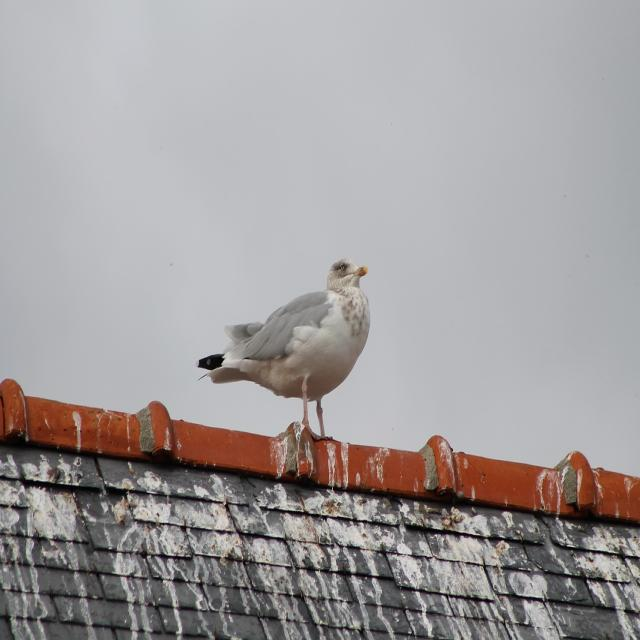bird: (194, 257, 373, 442)
